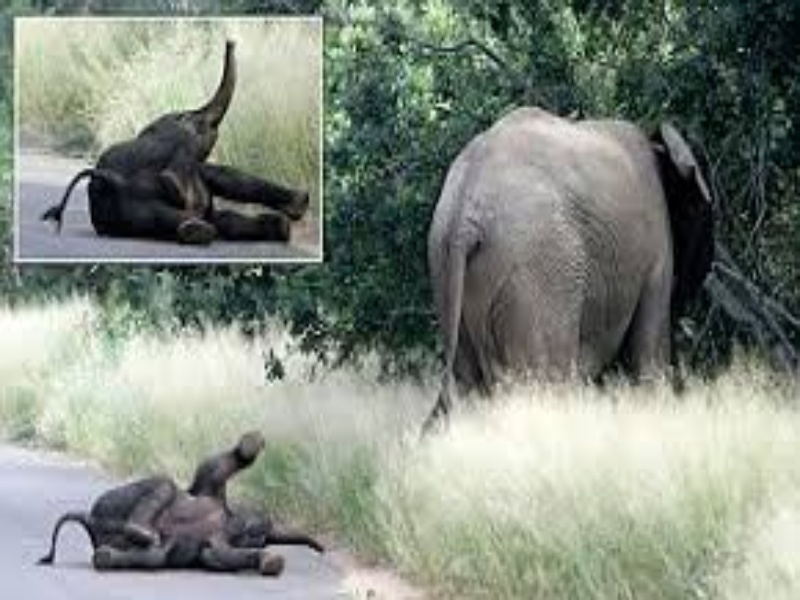elephant: (427, 58, 724, 450), (42, 17, 320, 261), (14, 423, 362, 600)
